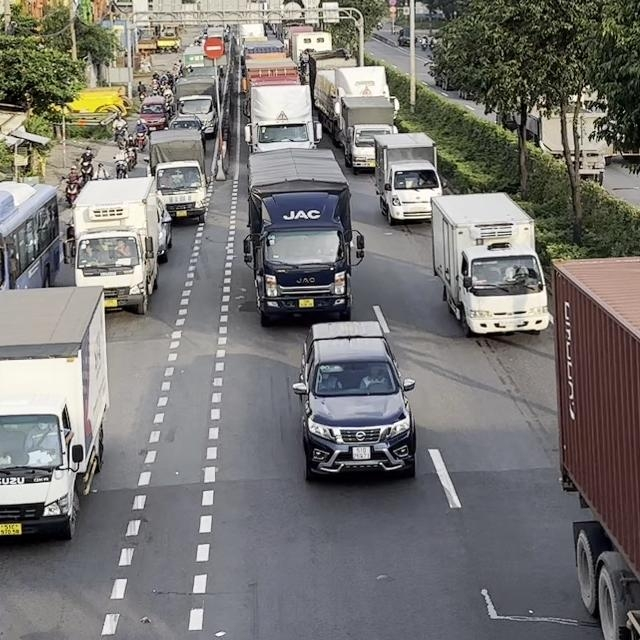bus: (0, 180, 61, 291)
car: (292, 320, 417, 481)
motorcycle: (61, 175, 81, 207), (112, 153, 129, 178)
truck: (549, 254, 639, 639), (0, 284, 110, 541), (242, 148, 365, 326), (430, 191, 550, 337), (63, 175, 172, 314), (372, 131, 446, 225), (146, 129, 212, 224), (244, 83, 322, 153), (339, 93, 401, 169)
